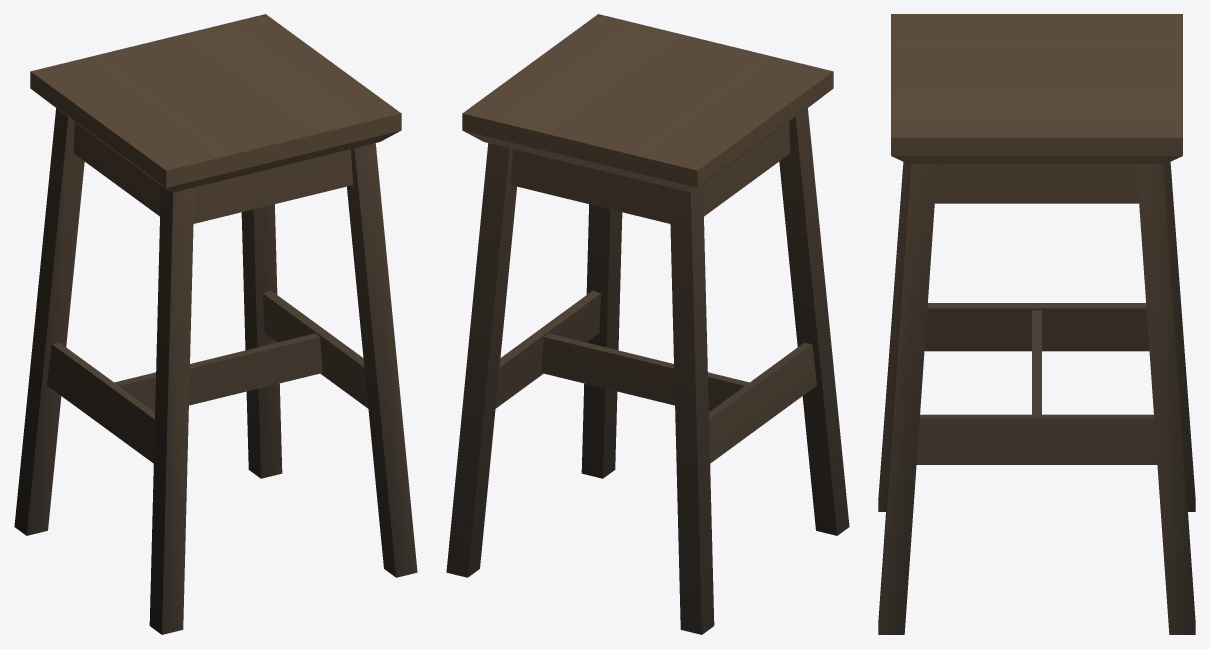
Rendered from Stool_Square.fbx.
The picture shows the model from 3 angles, left to right: view 1: azimuth 30°, elevation 25°; view 2: azimuth 150°, elevation 25°; view 3: azimuth 270°, elevation 25°; orthographic projection. The views are drawn at different scales.
Visible parts, largest first — view 1: Stool_Square; view 2: Stool_Square; view 3: Stool_Square.
Part boxes in pixels (box(x1,y1,x2,y2)): Stool_Square: box(14, 14, 417, 634); Stool_Square: box(446, 14, 849, 634); Stool_Square: box(878, 14, 1195, 634).
Size of the model in its own units: 48.06 by 82.19 by 48.06.
